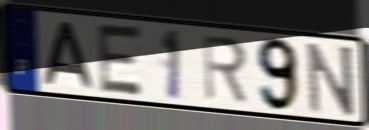1: (158, 27, 185, 103)
9: (255, 35, 303, 113)
A: (41, 19, 97, 91)
E: (96, 21, 146, 99)
N: (304, 40, 357, 117)
R: (201, 33, 250, 105)
